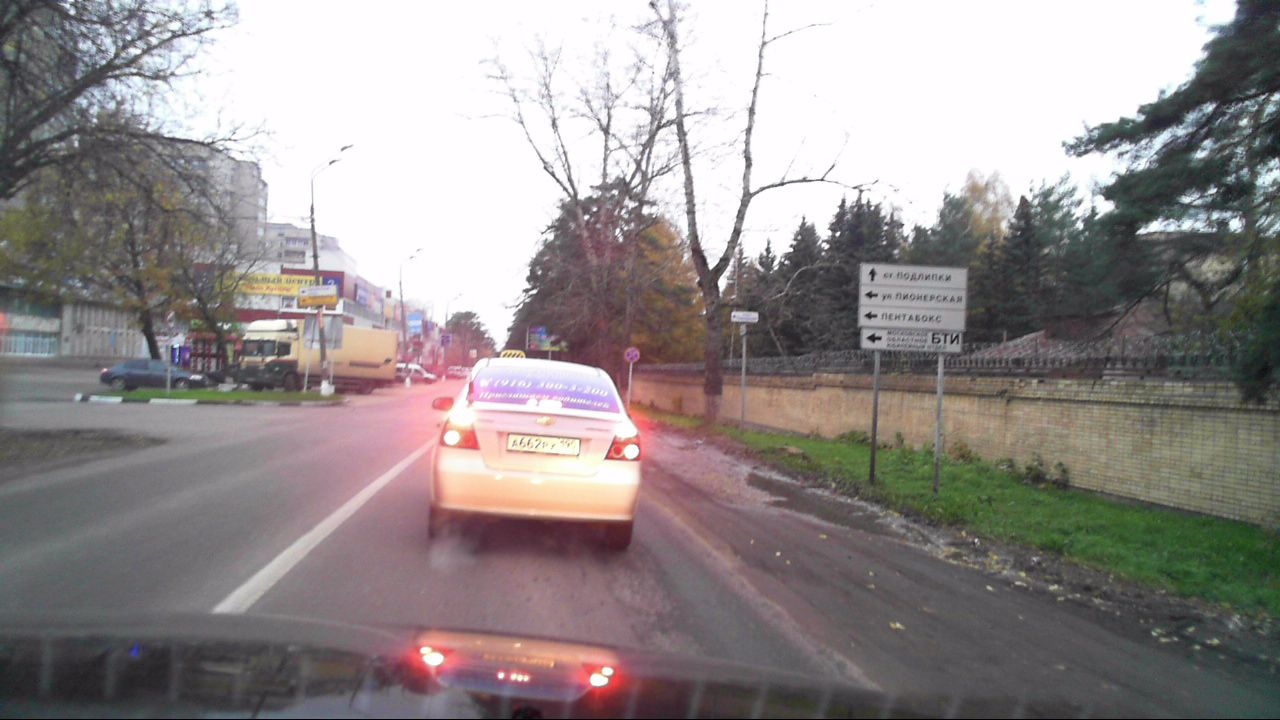No Parking: (624, 346, 641, 363)
